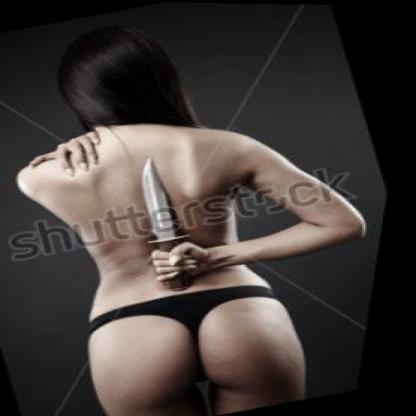knife: (103, 142, 228, 278)
